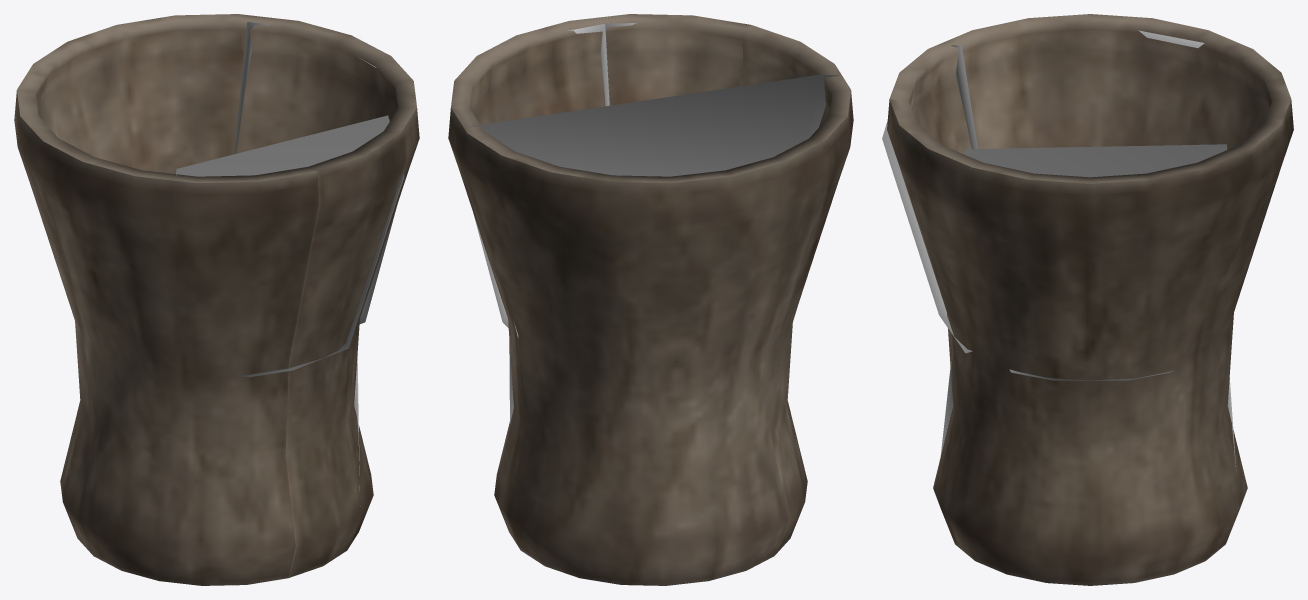
Rendered from SM_Cup.gltf.
3 renders of one model, left to right at view 1: azimuth 30°, elevation 25°; view 2: azimuth 150°, elevation 25°; view 3: azimuth 270°, elevation 25°, orthographic.
Visible parts, largest first — view 1: SM_Cup_LOD0, SM_Cup_ConvexHulls; view 2: SM_Cup_LOD0, SM_Cup_ConvexHulls; view 3: SM_Cup_LOD0, SM_Cup_ConvexHulls.
Boxes of the visible parts, x1=… form: SM_Cup_LOD0: x1=14, y1=14, x2=419, y2=585; SM_Cup_ConvexHulls: x1=176, y1=22, x2=404, y2=506; SM_Cup_LOD0: x1=448, y1=14, x2=853, y2=585; SM_Cup_ConvexHulls: x1=467, y1=23, x2=838, y2=423; SM_Cup_LOD0: x1=887, y1=14, x2=1293, y2=585; SM_Cup_ConvexHulls: x1=882, y1=30, x2=1236, y2=470.
Size of what is drawn, in the model's own units: 0.342 by 0.3983 by 0.342.
